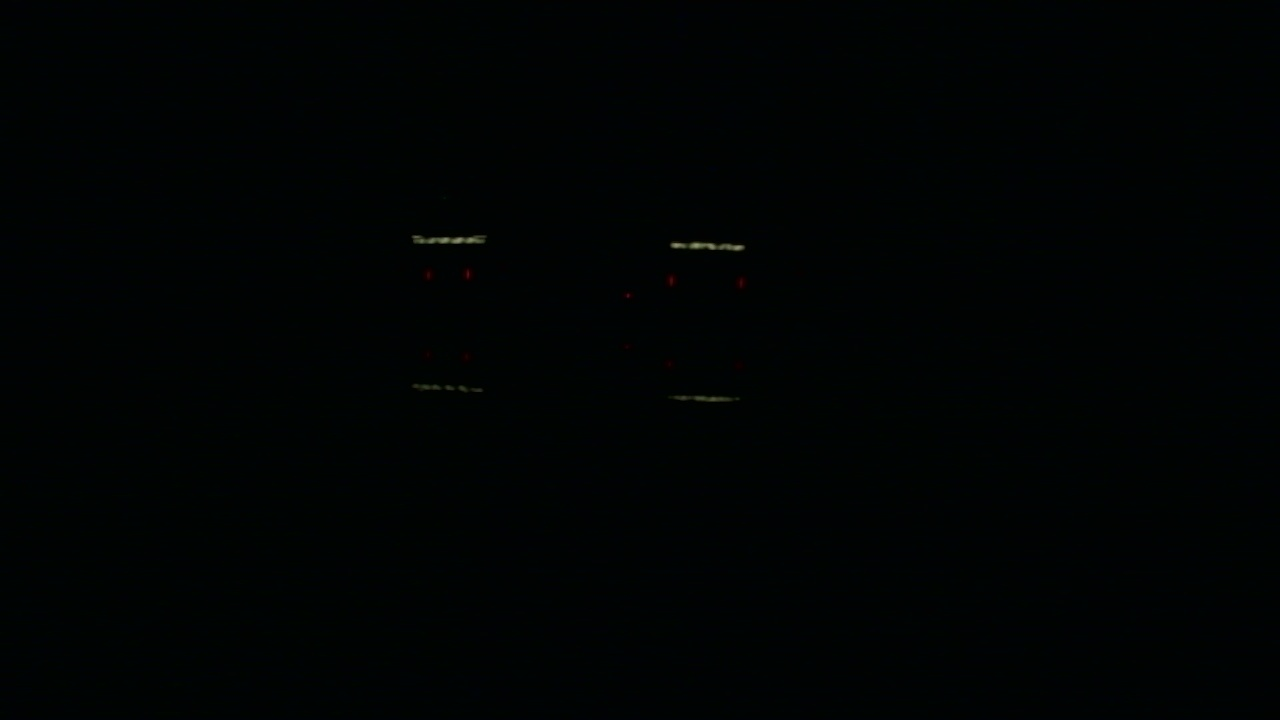lamp: (666, 274, 671, 290)
pair1: (425, 270, 469, 279)
pair2: (668, 277, 744, 289)
